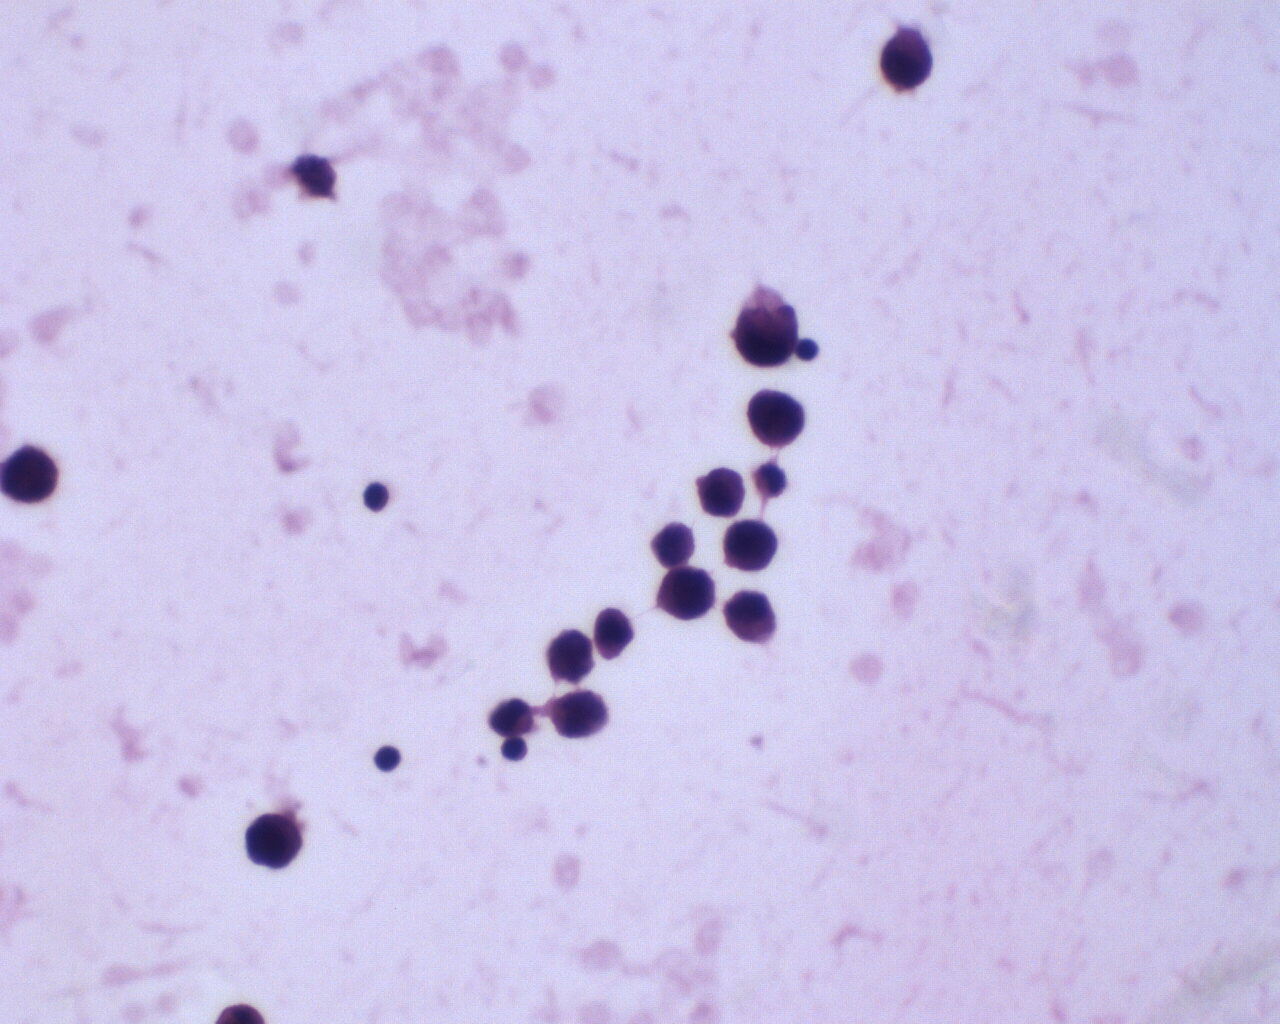ab: (875, 25, 934, 96), (745, 387, 809, 451), (242, 812, 305, 872), (1, 444, 62, 507), (550, 686, 612, 744), (720, 518, 779, 576), (653, 568, 716, 623), (697, 463, 748, 523), (590, 605, 636, 664)
lymph: (362, 481, 395, 515), (373, 741, 402, 775), (797, 332, 821, 365)
